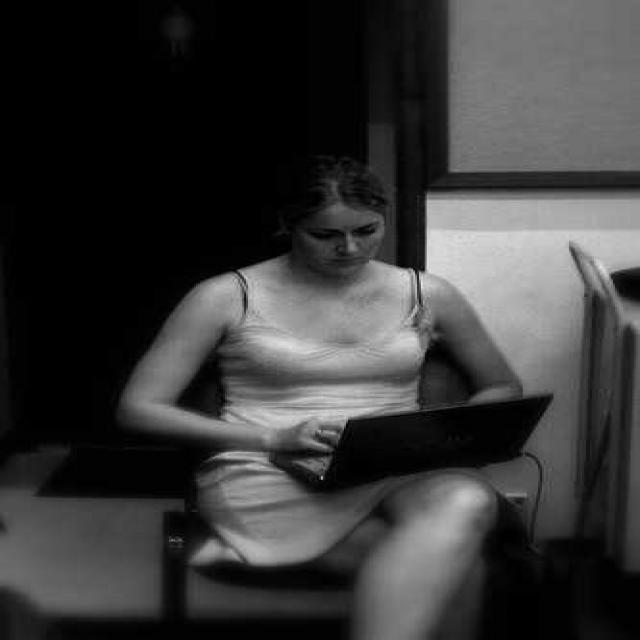laptop: (271, 394, 575, 499)
